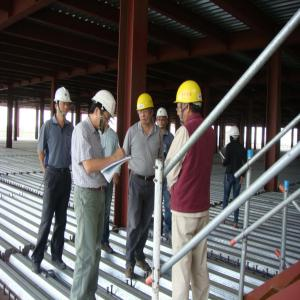white: (89, 89, 117, 131), (54, 87, 73, 119), (155, 108, 170, 131), (229, 127, 242, 144)
yellow: (175, 79, 206, 125), (135, 95, 155, 126)
